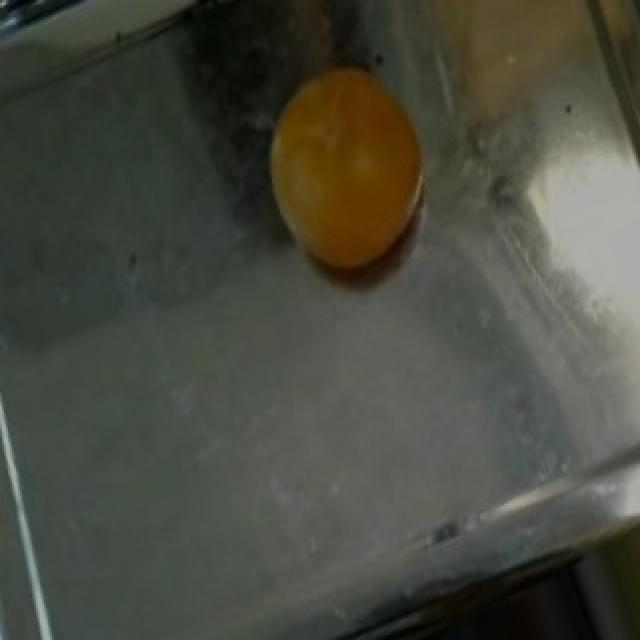Fruit: (238, 50, 458, 288)
